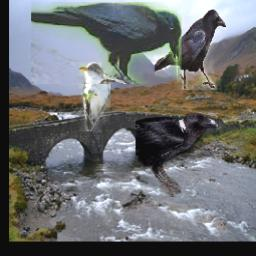Crow: (31, 3, 182, 85), (135, 112, 218, 197), (155, 9, 227, 90)
Cuckoo: (78, 62, 109, 131)
